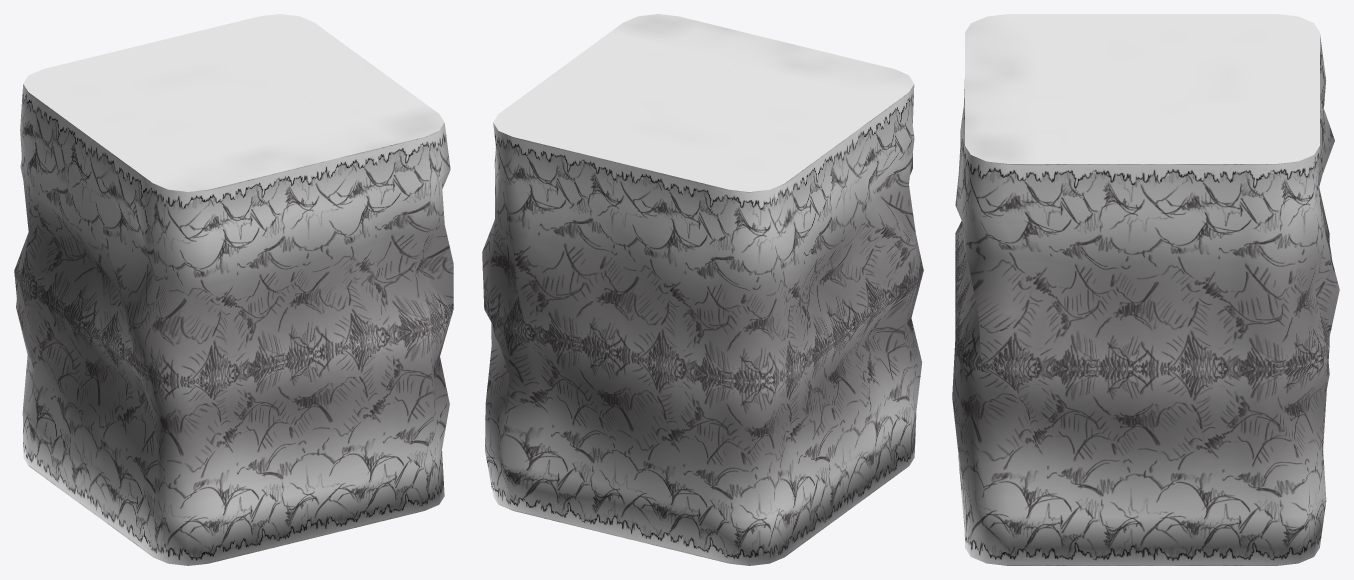
File: 16x16x20_Island.fbx
3 renders of one model, left to right at view 1: azimuth 30°, elevation 25°; view 2: azimuth 150°, elevation 25°; view 3: azimuth 270°, elevation 25°, orthographic. The views are drawn at different scales.
Visible parts, largest first — view 1: 16x16x20_Island; view 2: 16x16x20_Island; view 3: 16x16x20_Island.
Boxes of the visible parts, x1=… form: 16x16x20_Island: x1=14, y1=14, x2=453, y2=565; 16x16x20_Island: x1=482, y1=14, x2=923, y2=565; 16x16x20_Island: x1=952, y1=14, x2=1339, y2=565.
Bounding box in the file's own units: 1760 × 2000 × 1748.
